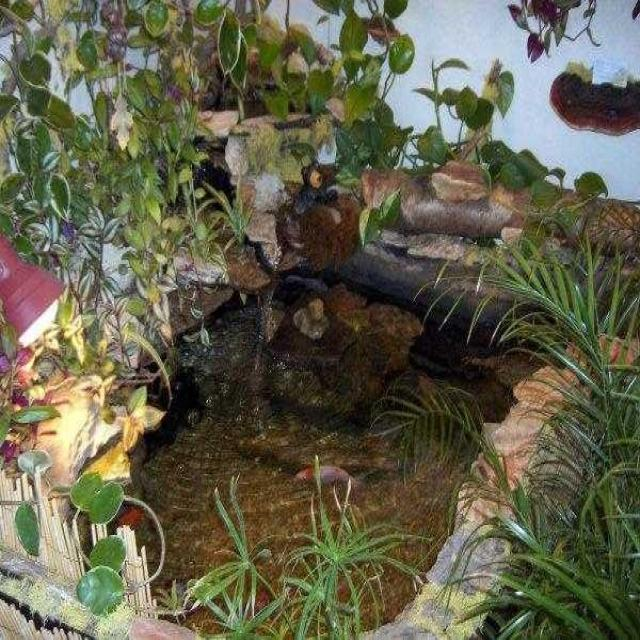Ponds: (24, 125, 640, 640)
